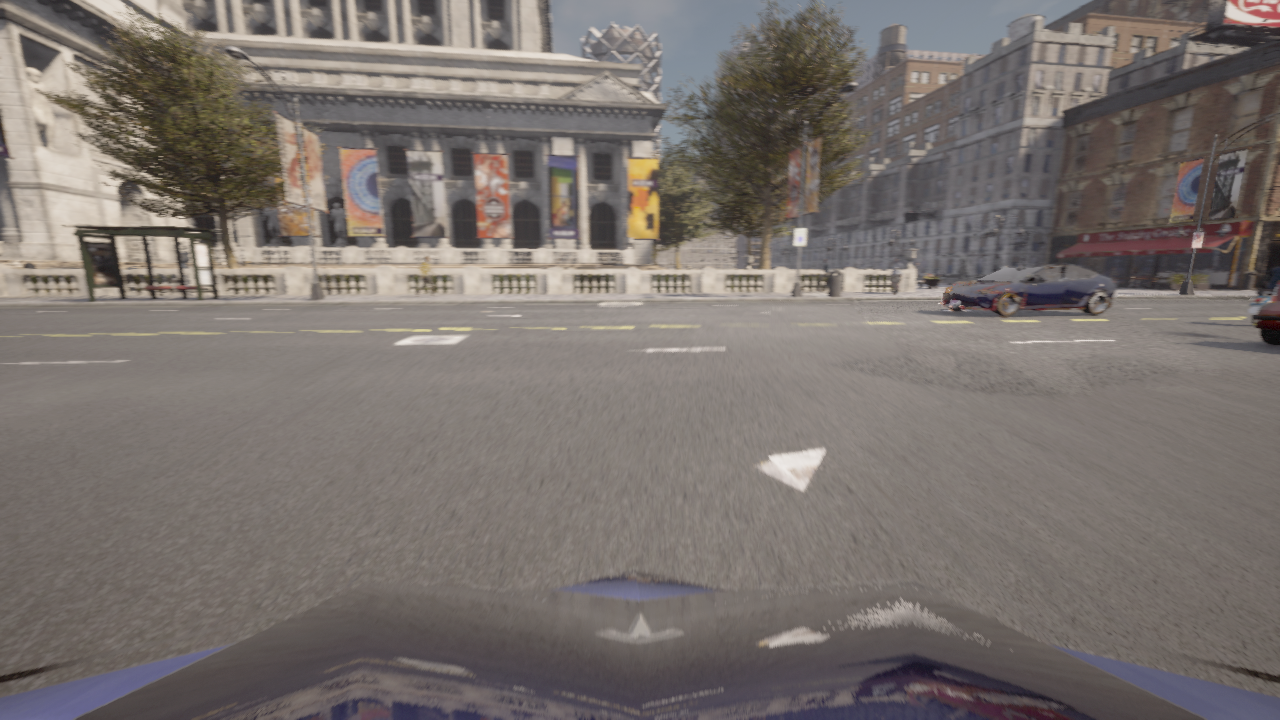cyclist: (0, 569, 1279, 719), (941, 264, 1117, 316), (1254, 282, 1279, 345), (1247, 290, 1273, 324)
pedestrian: (415, 256, 437, 297), (816, 258, 829, 293), (891, 258, 903, 293)
